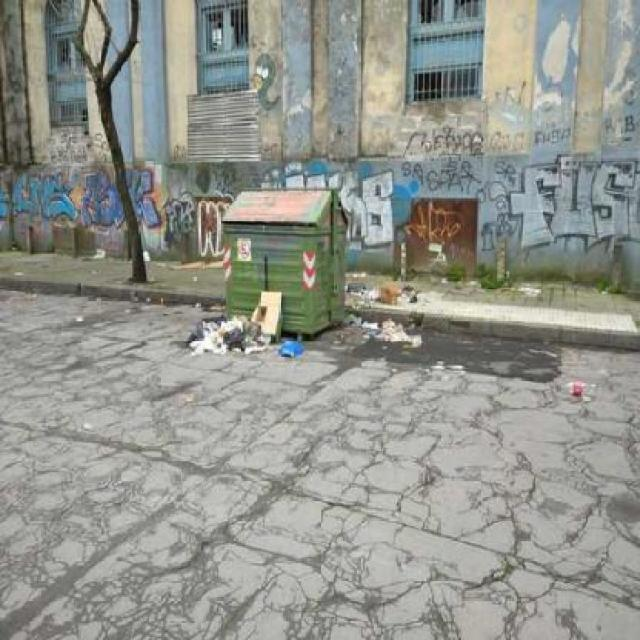garbage: (346, 265, 441, 365), (186, 282, 293, 355), (23, 202, 132, 265), (174, 241, 235, 286)
